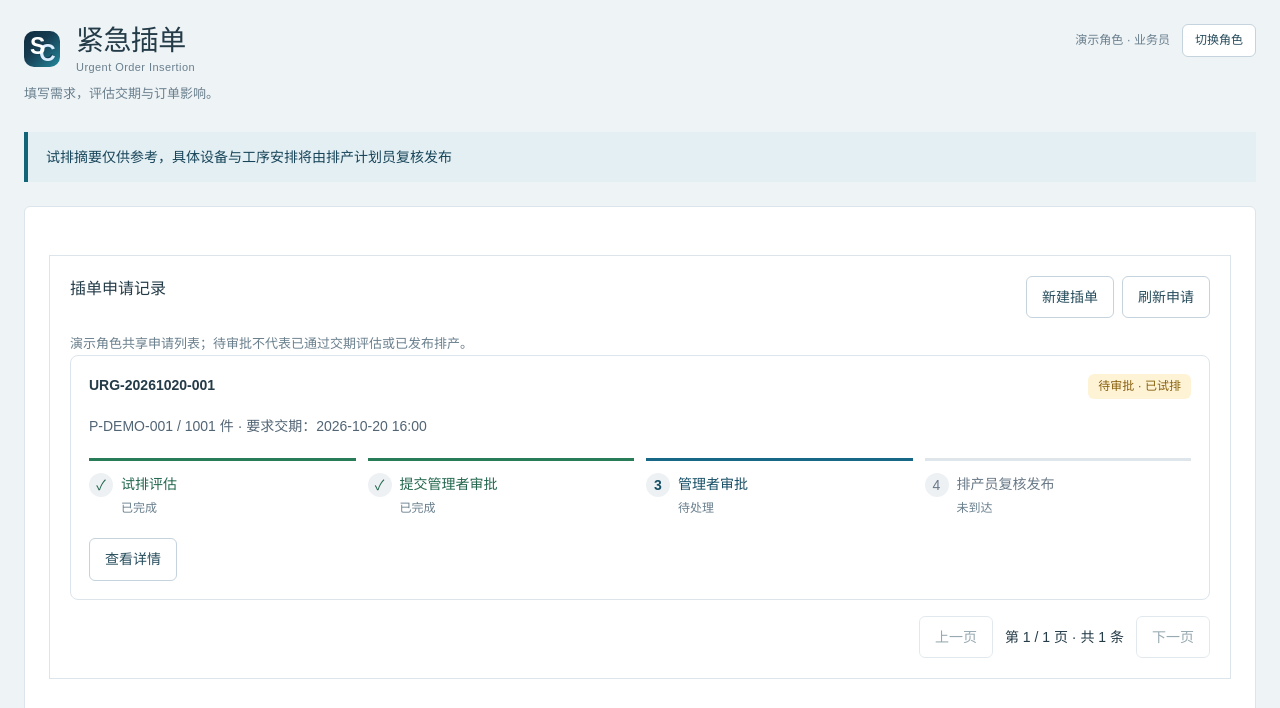
Test: places request records above the form and starts a clean draft
Click the button "新建插单". click: click(1070, 297)
box: [1026, 276, 1114, 318]
(page scrolled)
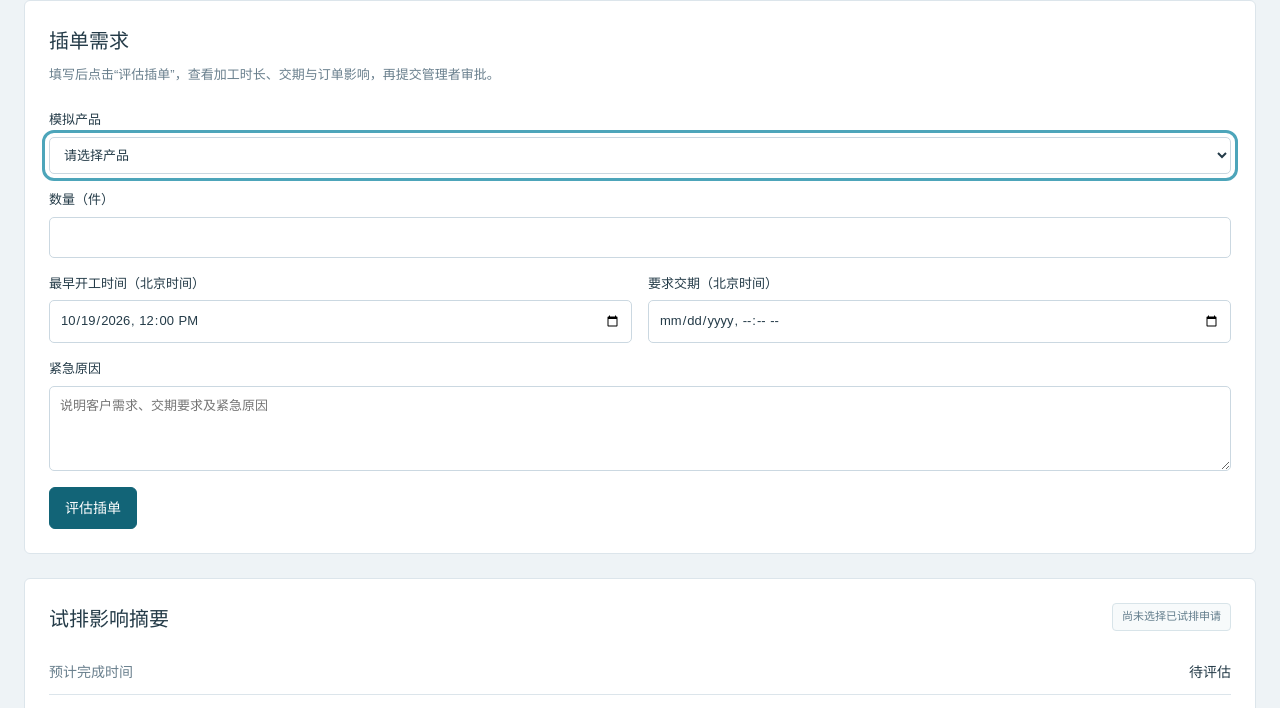
Expected: the number field labelled "数量（件）" is empty, [49, 217, 1231, 258]
Now the dropdown labelled "模拟产品" shows "请选择产品", box [49, 137, 1231, 174]
